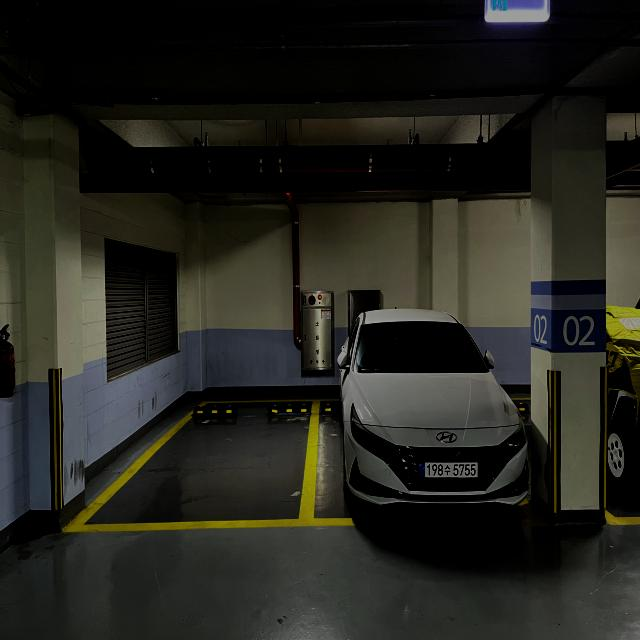empty: (59, 391, 319, 535)
occupied: (332, 299, 545, 541)
